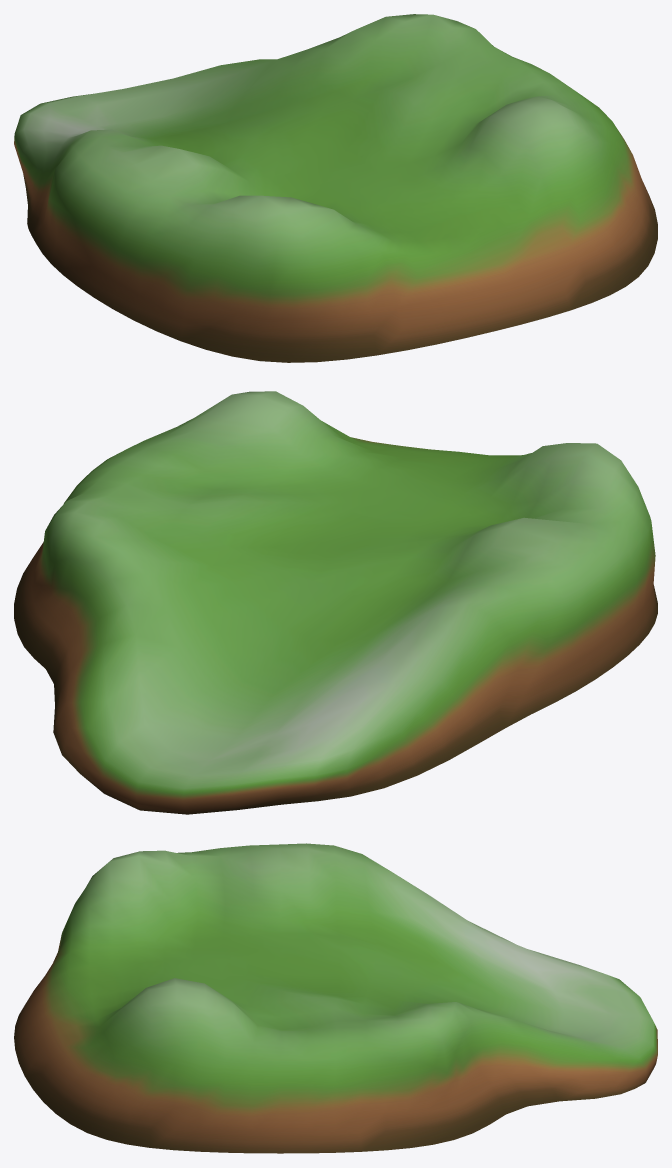
Rendered from Ground03_Waterpart.fbx.
3 views of the same model, one above another, from view 1: azimuth 30°, elevation 25°; view 2: azimuth 150°, elevation 25°; view 3: azimuth 270°, elevation 25° (orthographic). The views are drawn at different scales.
Parts seen in each view (by area): view 1: pCube5; view 2: pCube5; view 3: pCube5.
Boxes of the visible parts, x1,y1,x2,y2 form: pCube5: (14,14,657,362); pCube5: (14,391,657,814); pCube5: (14,843,657,1153).
Bounding box in the file's own units: 349 × 105 × 407.
